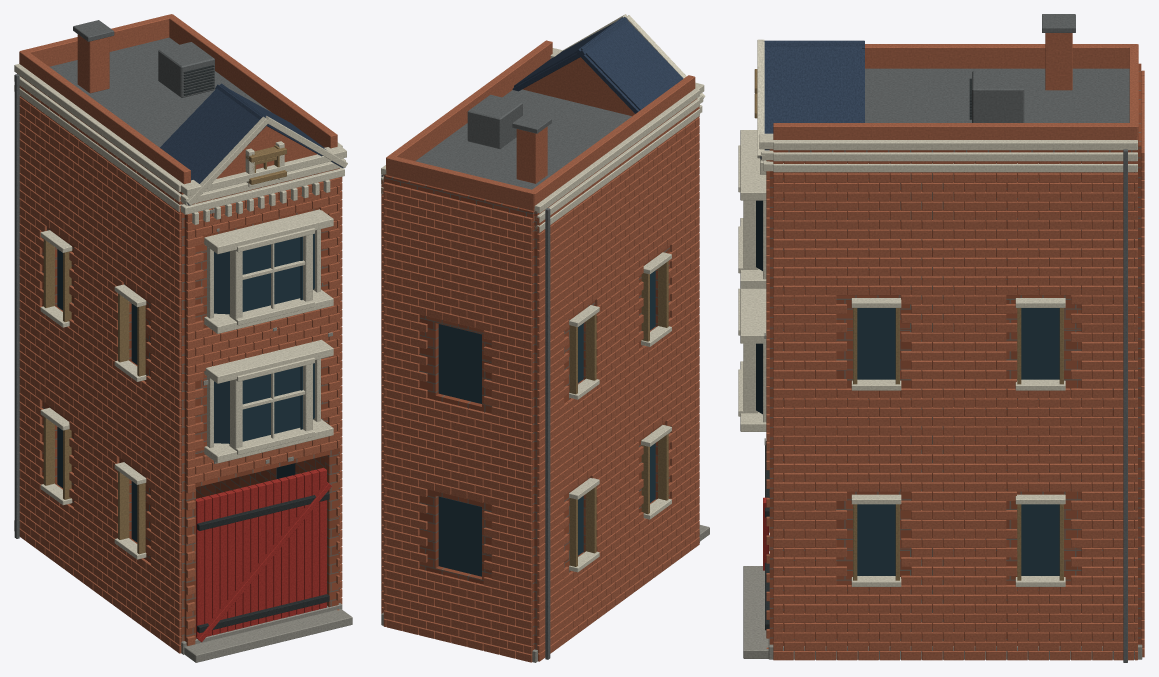
File: VICT6B_lod0.glb
3 views of the same model, side by side, from view 1: azimuth 30°, elevation 25°; view 2: azimuth 150°, elevation 25°; view 3: azimuth 270°, elevation 25° (orthographic). The views are drawn at different scales.
Visible parts, largest first — view 1: VICT6B_LOD0; view 2: VICT6B_LOD0; view 3: VICT6B_LOD0.
Boxes of the visible parts, x1,y1,x2,y2 form: VICT6B_LOD0: (14, 14, 352, 662); VICT6B_LOD0: (381, 14, 709, 662); VICT6B_LOD0: (738, 14, 1144, 662).
Bounding box in the file's own units: 3.71 × 10.46 × 6.69.
13 materials, 11 textured.
